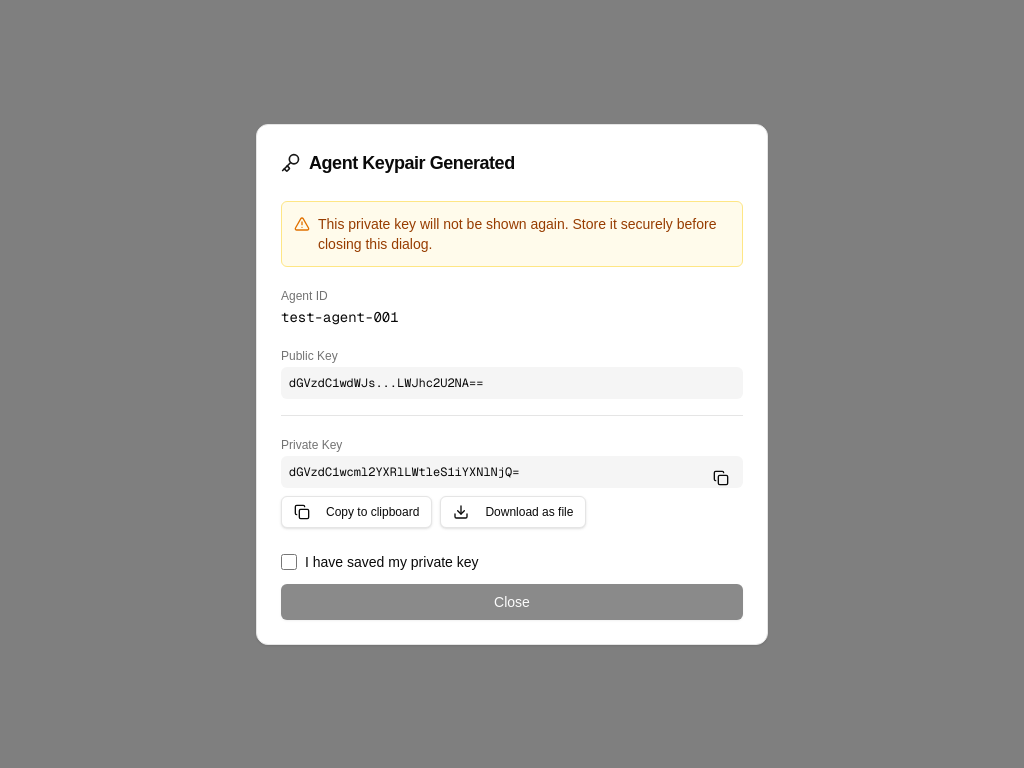
it: PrivateKeyModal › shows 'Copied!' text after copying
Click the button "Copy to clipboard" at (357, 512), box [281,496,432,528]
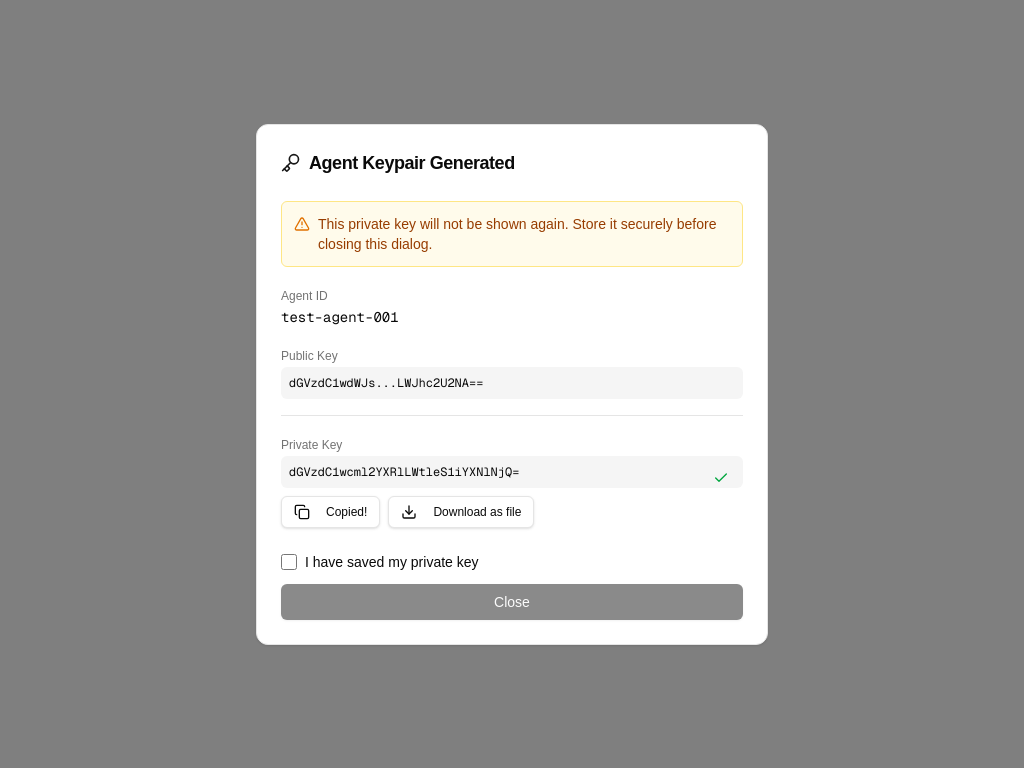
Check: the button "Copied!" is shown, box [281,496,380,528]
